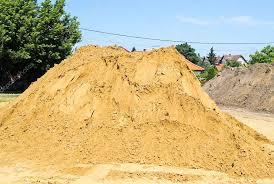sand: (132, 129, 159, 149), (128, 70, 154, 88), (185, 84, 200, 103), (67, 90, 85, 104)
